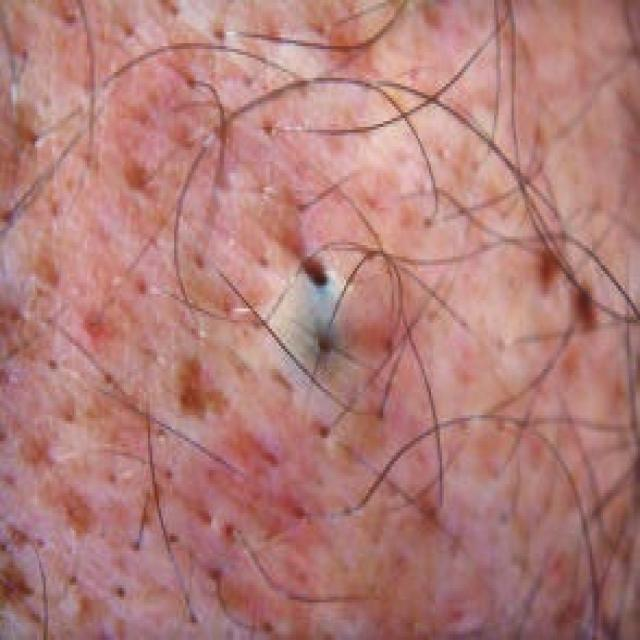Seborrheic-Keratoses-and-other-Benign-Tumors: (68, 59, 585, 533)
